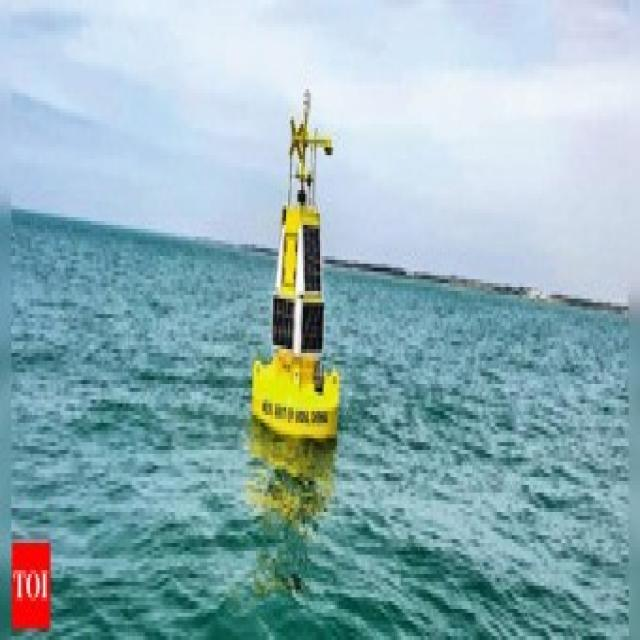buoy: (242, 65, 346, 465)
